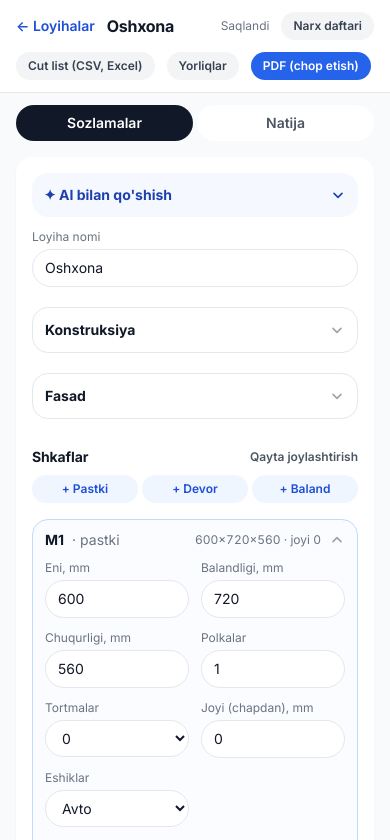
Test: MebelProjectPage › adds a cabinet next to the last one
Click the button "+ Pastki".
click(85, 489)  # box [32,475,138,503]
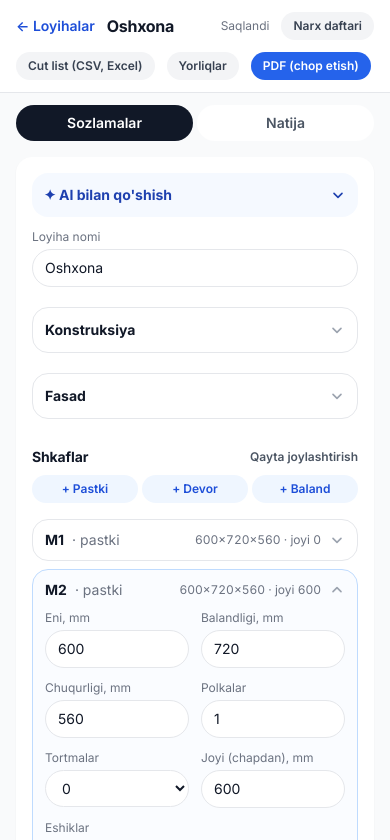
Result: the text "M2" is shown at [45,580,67,600]
